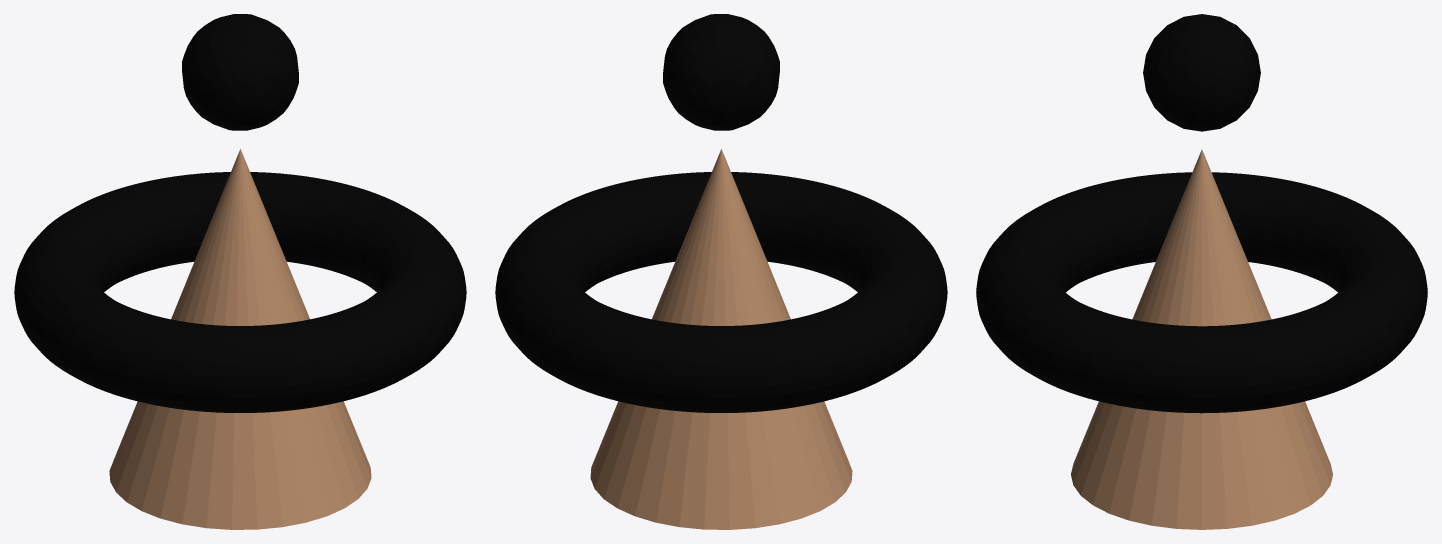
File: 3dAsset.glb
The picture shows the model from 3 angles, left to right: view 1: azimuth 30°, elevation 25°; view 2: azimuth 150°, elevation 25°; view 3: azimuth 270°, elevation 25°; orthographic projection.
Visible parts, largest first — view 1: Torus, Cone, Icosphere; view 2: Torus, Cone, Icosphere; view 3: Torus, Cone, Icosphere.
Part boxes in pixels (bbox=[...]): Torus: bbox=[14, 172, 466, 412]; Cone: bbox=[109, 149, 371, 529]; Icosphere: bbox=[182, 14, 298, 130]; Torus: bbox=[495, 172, 947, 412]; Cone: bbox=[590, 149, 852, 529]; Icosphere: bbox=[663, 14, 779, 130]; Torus: bbox=[976, 172, 1427, 413]; Cone: bbox=[1071, 149, 1332, 529]; Icosphere: bbox=[1143, 14, 1260, 131].
Size of the model in its own units: 3.44 by 3.83 by 3.44.
